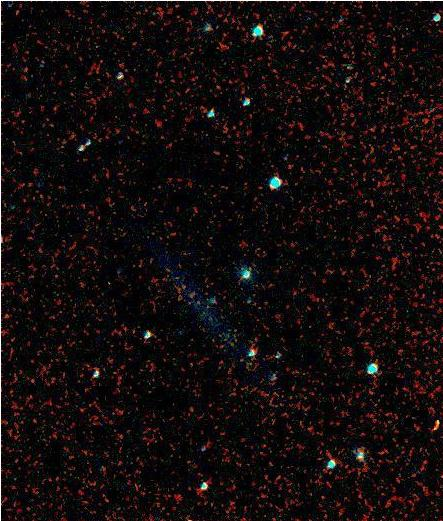star: (181, 250, 211, 280)
